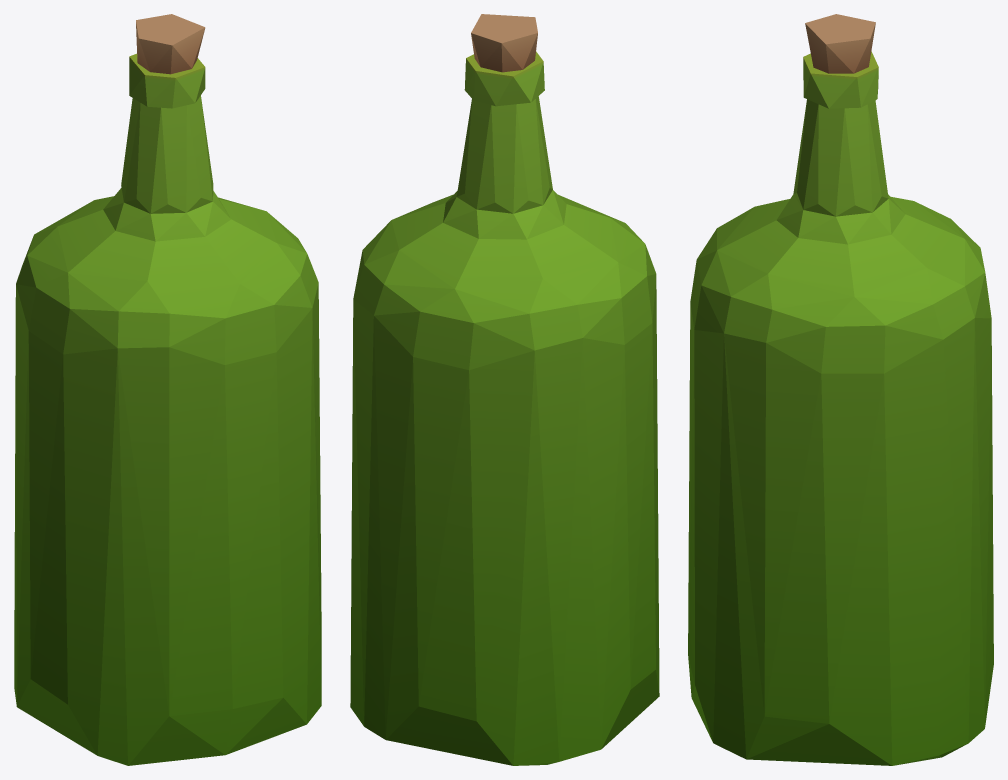
File: SM_Bottle_02.fbx
3 views of the same model, side by side, from view 1: azimuth 30°, elevation 25°; view 2: azimuth 150°, elevation 25°; view 3: azimuth 270°, elevation 25° (orthographic).
Parts seen in each view (by area): view 1: SM_Bottle_02; view 2: SM_Bottle_02; view 3: SM_Bottle_02.
Part boxes in pixels (x1,y1,x2,y2): SM_Bottle_02: (14, 14, 321, 765); SM_Bottle_02: (350, 14, 659, 765); SM_Bottle_02: (688, 14, 993, 765).
Size of the model in its own units: 12.92 by 31.97 by 12.92.
